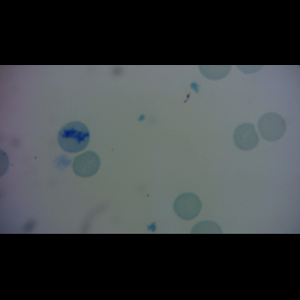aggregate reticulocyte: (56, 121, 91, 154)
erythrocyte: (256, 111, 288, 143), (72, 150, 101, 179), (173, 192, 202, 221), (232, 121, 260, 151)
